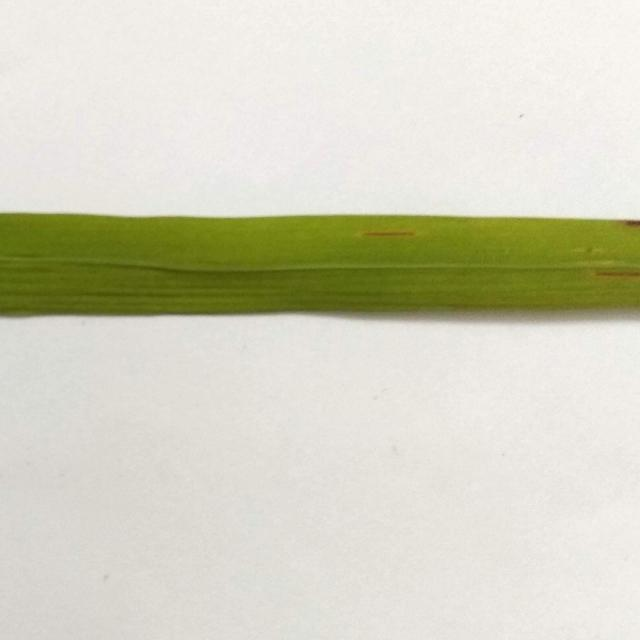Brown spot: (1, 146, 640, 393)
